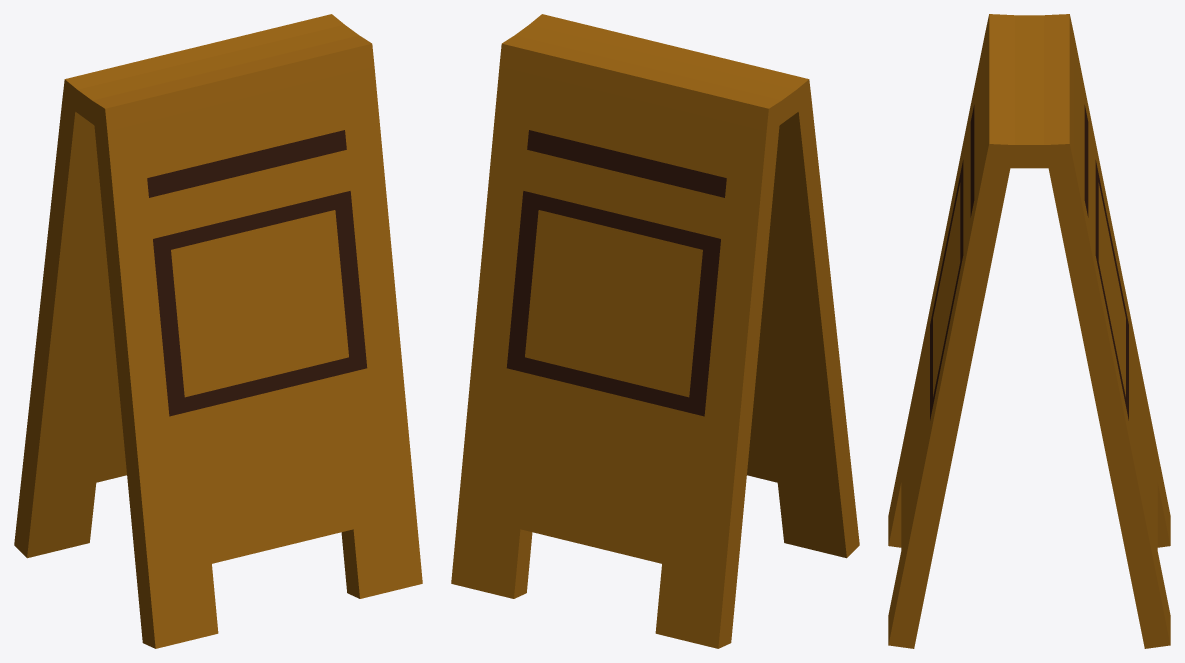
File: Sign.obj
The picture shows the model from 3 angles, left to right: view 1: azimuth 30°, elevation 25°; view 2: azimuth 150°, elevation 25°; view 3: azimuth 270°, elevation 25°; orthographic projection.
Parts seen in each view (by area): view 1: Sign_Cube.014; view 2: Sign_Cube.014; view 3: Sign_Cube.014.
Boxes of the visible parts, left/top/right/bottom form: Sign_Cube.014: left=14, top=14, right=422, bottom=648; Sign_Cube.014: left=451, top=14, right=859, bottom=648; Sign_Cube.014: left=888, top=14, right=1170, bottom=648.
Size of the model in its own units: 0.5696 by 1.03 by 0.5225.
